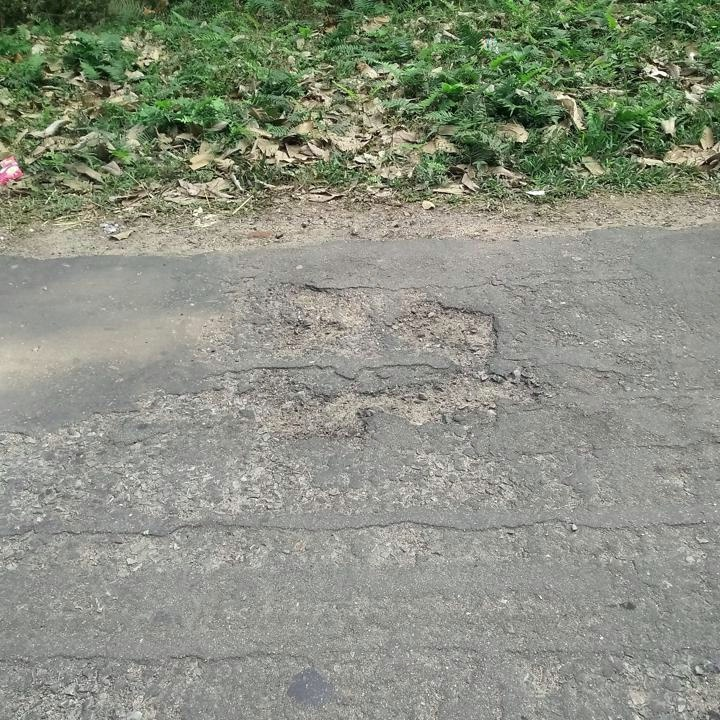pothole: (233, 277, 546, 444)
